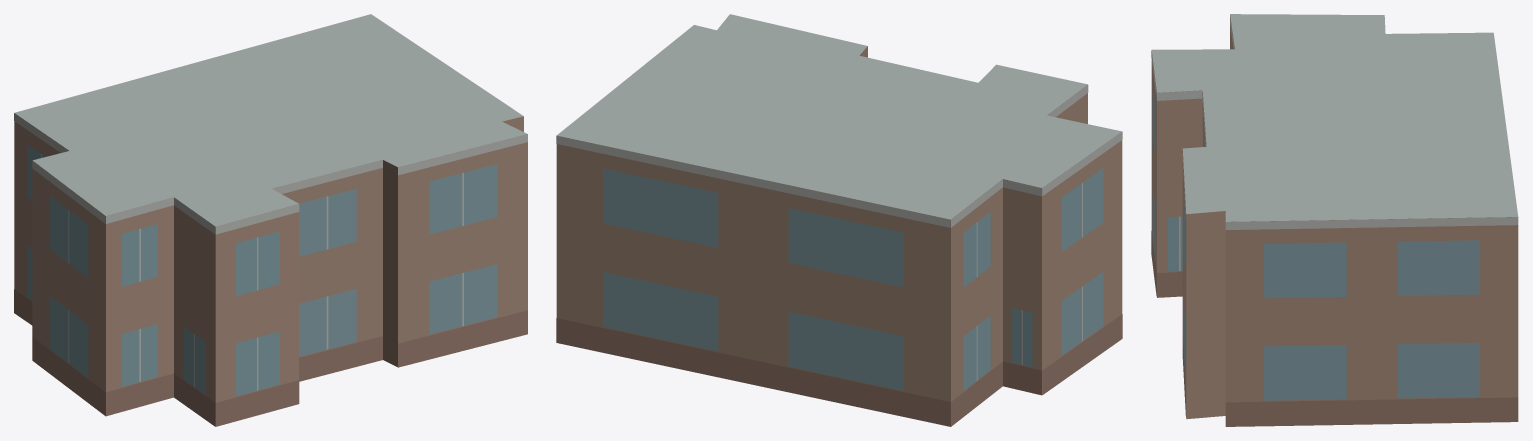
Rendered from survey-upis-32764345.glb.
The picture shows the model from 3 angles, left to right: view 1: azimuth 30°, elevation 25°; view 2: azimuth 150°, elevation 25°; view 3: azimuth 270°, elevation 25°; orthographic projection. The views are drawn at different scales.
Parts seen in each view (by area): view 1: survey-upis-32764345.tmp; view 2: survey-upis-32764345.tmp; view 3: survey-upis-32764345.tmp.
Part boxes in pixels (x1,y1,x2,y2): survey-upis-32764345.tmp: [14, 14, 527, 426]; survey-upis-32764345.tmp: [556, 14, 1122, 426]; survey-upis-32764345.tmp: [1151, 14, 1518, 426].
Size of the model in its own units: 13.28 by 6.1 by 9.9.
